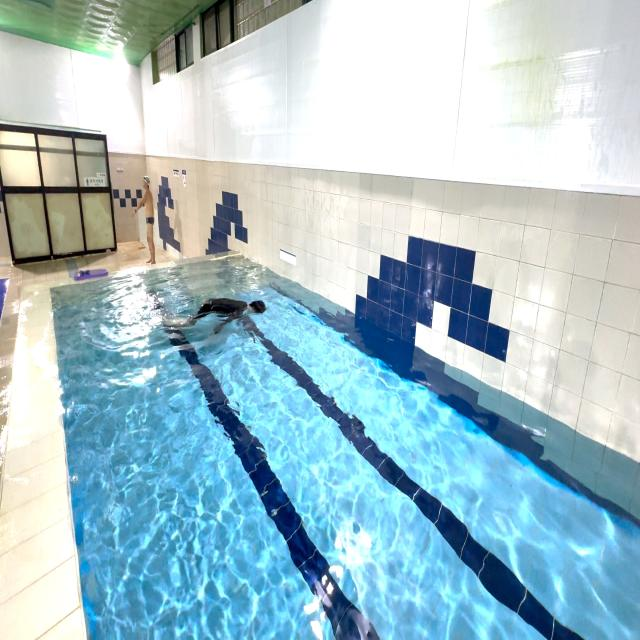Drowning: (155, 288, 271, 341)
